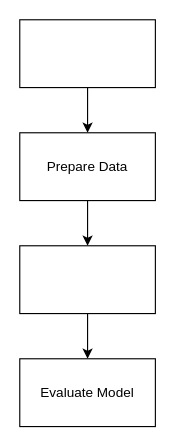
Image size: 175x446. Some labels were removed from this diagram. Each missing label, with the centre of its shape:
"Define Problem" belongs at (x=87, y=53).
"Train Model" belongs at (x=87, y=279).
